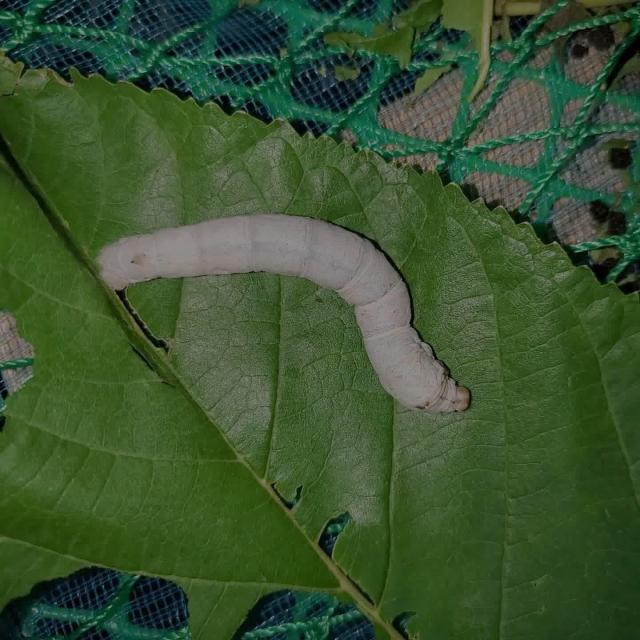Healthy: (91, 205, 477, 424)
